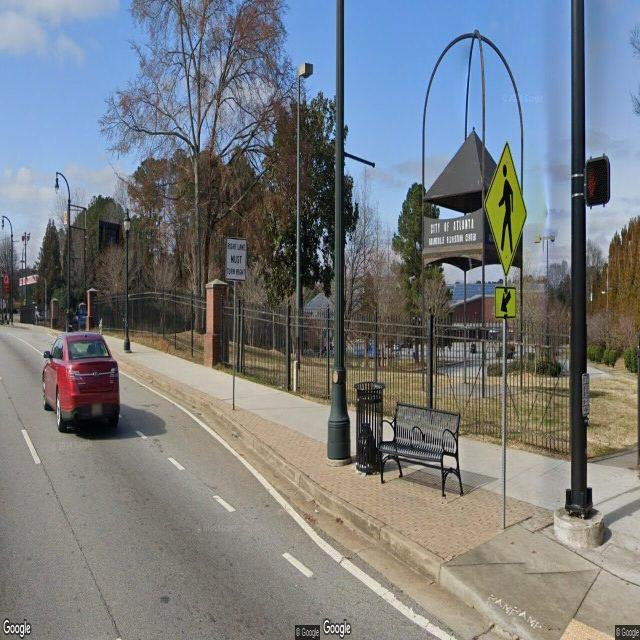seating: (386, 404, 459, 495)
trash_can: (355, 383, 383, 472)
